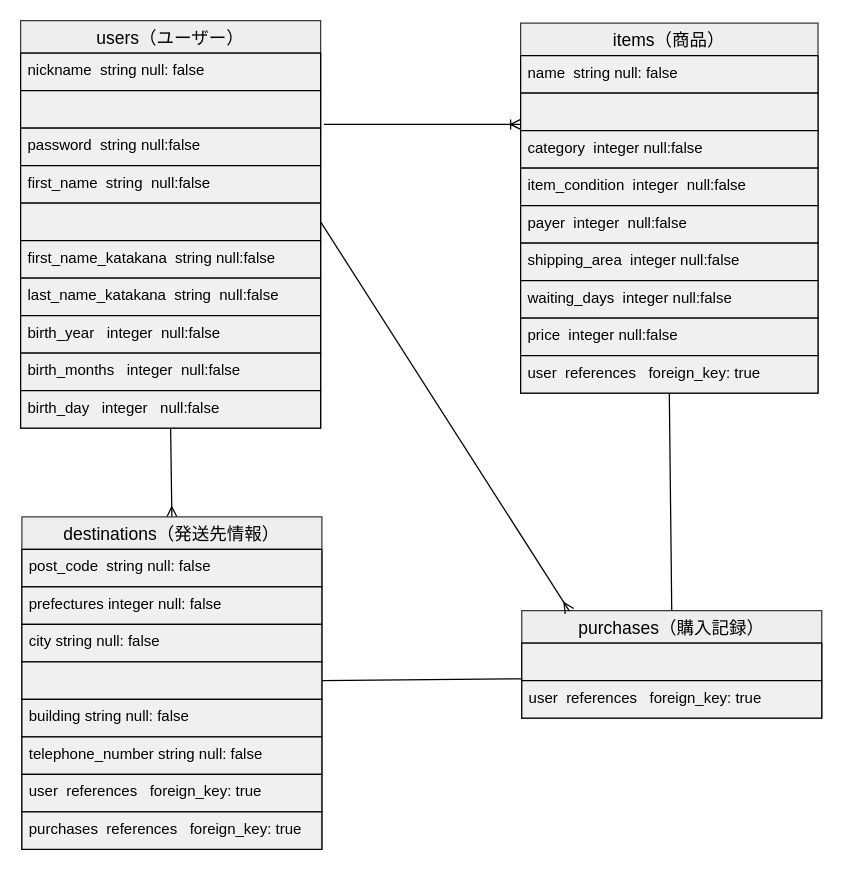
Some shapes in this 843 by 870 pixel diagram are drawn without their labels. The shapes that lost their labels are listed below. From the top down, each one's centre as x and y in pixels, then its label:
point 170,108: email string null: false, unique: true
point 668,111: explanation text null: false
point 170,221: last_name string null:false
point 171,680: address string null: false
point 671,661: item references foreign_key: true
